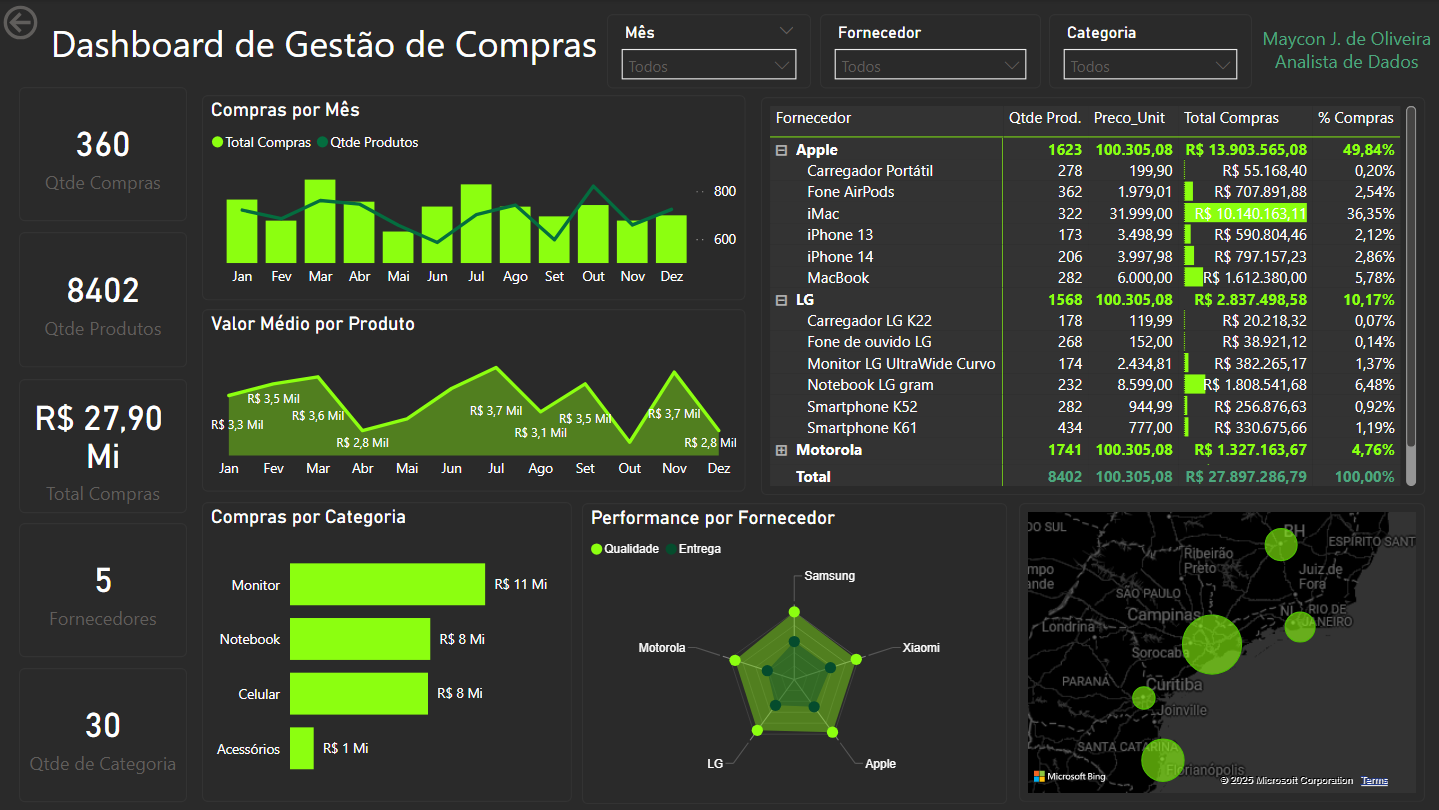

This screenshot's page, from the dashboard's own definition file:
{"tool":"powerbi","page":{"name":"Visão Geral","canvas":[1280,720],"ordinal":1},"visuals":[{"type":"card","fields":{"Values":["#Medidas.Qtde Pedidos Compra"]},"box":[18.8,77.5,148.8,118.8],"z":0},{"type":"card","fields":{"Values":["#Medidas.Quantidade"]},"box":[18.8,205.9,148.8,120],"z":1000},{"type":"card","fields":{"Values":["#Medidas.Total Compras"]},"box":[18.8,335.6,148.8,118.8],"z":2000},{"type":"card","fields":{"Values":["Count(Fornecedores.Fornecedor )"]},"box":[18.8,464.1,148.8,118.8],"z":3000},{"type":"lineStackedColumnComboChart","title":"Compras por Mês","fields":{"Y":["#Medidas.Total Compras"],"Y2":["#Medidas.Quantidade"],"Category":["dim_calendario.Mes abev"]},"box":[181,84,482,182],"z":4000},{"type":"barChart","title":"Compras por Categoria","fields":{"Category":["Produtos.Categoria"],"Y":["#Medidas.Total Compras"]},"box":[181,445,328,266],"z":5000},{"type":"pivotTable","fields":{"Rows":["Fornecedores.Fornecedor ","Produtos.Descricao_Produto"],"Values":["#Medidas.Quantidade","Sum(Produtos.Preco_Unit)","#Medidas.Total Compras","Divide(#Medidas.Total Compras, ScopedEval(#Medidas.Total Compras, []))"]},"box":[676.4,85.7,588.6,352.9],"z":6000},{"type":"RadarChart1446119667547","title":"Performance por Fornecedor ","fields":{"Category":["Fornecedores.Fornecedor "],"Y":["Sum(Compras.Qualidade)","Sum(Compras.Entrega)"]},"box":[518,446,377,267],"z":7000},{"type":"stackedAreaChart","title":"Valor Médio por Produto ","fields":{"Y":["#Medidas.Média Valor Produto"],"Category":["dim_calendario.Mes abev"]},"box":[181,274,482,162],"z":8000},{"type":"slicer","fields":{"Values":["dim_calendario.Nome do Mês"]},"box":[540,12.4,180.9,65.6],"z":9000},{"type":"slicer","fields":{"Values":["Fornecedores.Fornecedor "]},"box":[729,12,196,66],"z":10000},{"type":"slicer","fields":{"Values":["Produtos.Categoria"]},"box":[932,12,180,66],"z":11000},{"type":"textbox","box":[41.7,10.6,498.3,73.6],"z":12000},{"type":"map","fields":{"Category":["Fornecedores.Estado"],"Size":["#Medidas.Total Compras"]},"box":[905,446.2,360,265],"z":13000},{"type":"card","fields":{"Values":["Count(Fornecedores.Fornecedor )"]},"box":[18.8,592.5,148.8,118.8],"z":14000},{"type":"textbox","box":[1112,18,168,66],"z":15000},{"type":"actionButton","box":[0,0,41.7,39.9],"z":16000}]}

Visuals, with their boxes in screenshot pixels (x1, y1, x2, y2), scaled from the page's 1280x720 canvas onto the 1439x810 screenshot:
card - #Medidas.Qtde Pedidos Compra: bbox=[21, 87, 188, 221]
card - #Medidas.Quantidade: bbox=[21, 232, 188, 367]
card - #Medidas.Total Compras: bbox=[21, 378, 188, 511]
card - Count(Fornecedores.Fornecedor ): bbox=[21, 522, 188, 656]
"Compras por Mês" lineStackedColumnComboChart: bbox=[203, 94, 745, 299]
"Compras por Categoria" barChart: bbox=[203, 501, 572, 800]
pivotTable - Fornecedores.Fornecedor  x Produtos.Descricao_Produto: bbox=[760, 96, 1422, 493]
"Performance por Fornecedor " RadarChart1446119667547: bbox=[582, 502, 1006, 802]
"Valor Médio por Produto " stackedAreaChart: bbox=[203, 308, 745, 490]
slicer - dim_calendario.Nome do Mês: bbox=[607, 14, 810, 88]
slicer - Fornecedores.Fornecedor : bbox=[820, 14, 1040, 88]
slicer - Produtos.Categoria: bbox=[1048, 14, 1250, 88]
textbox: bbox=[47, 12, 607, 95]
map - Fornecedores.Estado x #Medidas.Total Compras: bbox=[1017, 502, 1422, 800]
card - Count(Fornecedores.Fornecedor ): bbox=[21, 667, 188, 800]
textbox: bbox=[1250, 20, 1438, 94]
actionButton: bbox=[0, 0, 47, 45]
